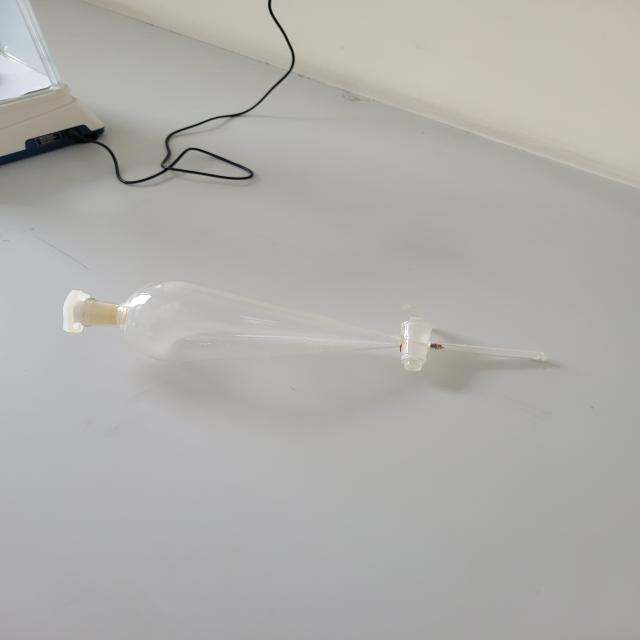Separating_Funnel: (26, 245, 580, 409)
